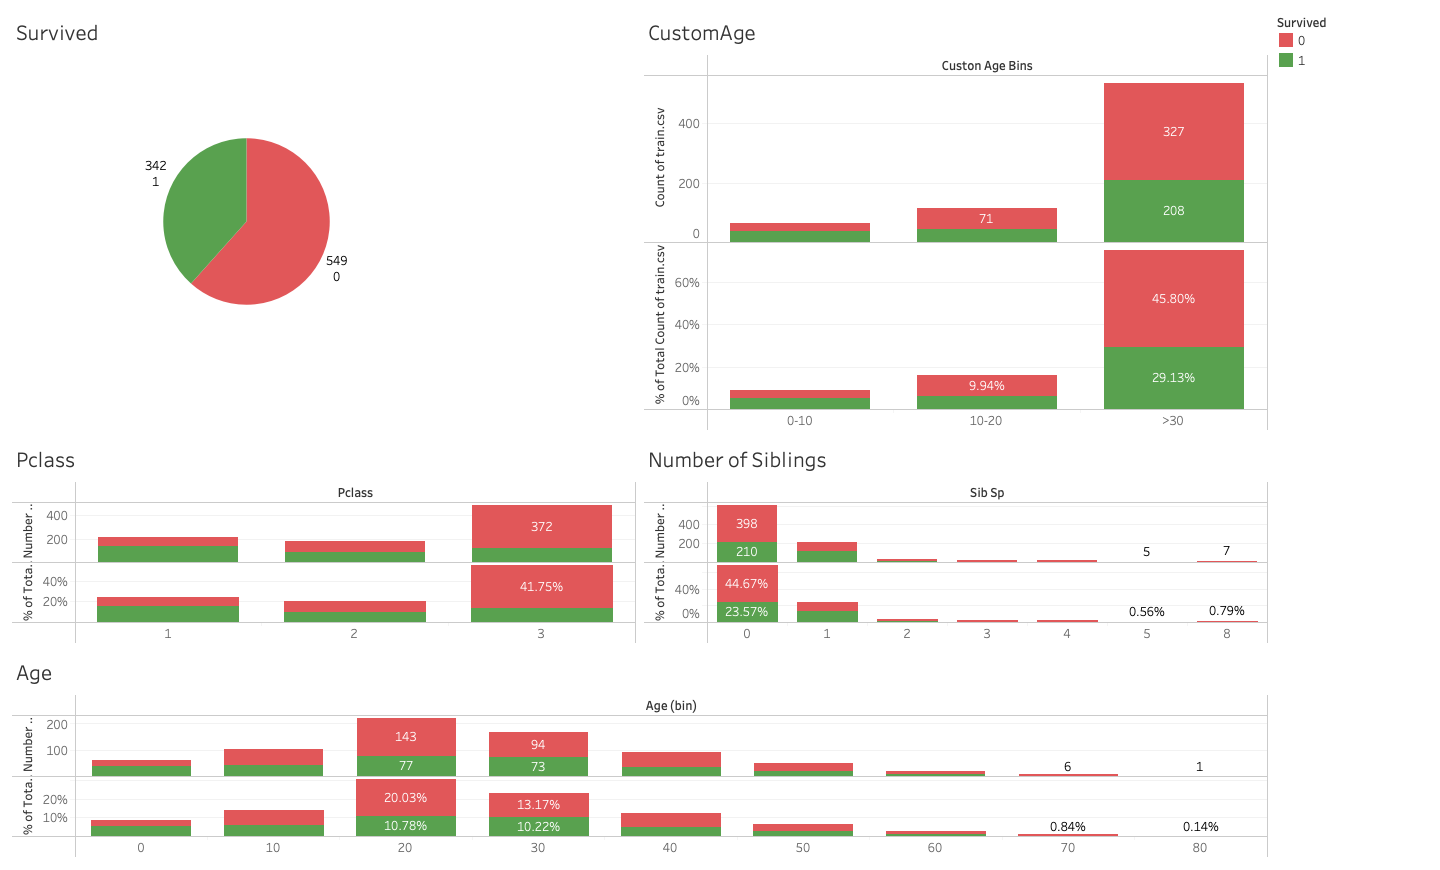

Layout of this report page (visuals, bound fields, positions):
{"tool":"tableau","page":{"name":"Dashboard 1","canvas":[1000,1000],"units":"permille","ordinal":0},"visuals":[{"type":"worksheet","box":[0,0,1000,1000]},{"type":"worksheet","param":"horz","box":[6.5,9.9,987,980.2]},{"type":"worksheet","box":[6.5,9.9,856.8,980.2]},{"type":"worksheet","title":"Survived","mark":"Pie","box":[6.5,9.9,428.4,490.1]},{"type":"worksheet","title":"CustomAge","mark":"Automatic","rows":["train.csv_BBE6D273E4FC451AA31D1AE2D0394274","train.csv_BBE6D273E4FC451AA31D1AE2D0394274"],"cols":["Calculation_3891884171586437123"],"box":[434.9,9.9,428.4,490.1]},{"type":"worksheet","param":"vert","box":[863.3,9.9,130.2,980.2]},{"type":"worksheet","title":"Age","mark":"Automatic","rows":["train.csv_BBE6D273E4FC451AA31D1AE2D0394274","train.csv_BBE6D273E4FC451AA31D1AE2D0394274"],"cols":["Age (bin)"],"param":"[federated.0ymic7e1ymud481h4ejtp0hmhixp].[none:Survived:ok]","box":[863.3,9.9,130.2,81.7]},{"type":"worksheet","title":"Pclass","mark":"Automatic","rows":["train.csv_BBE6D273E4FC451AA31D1AE2D0394274","train.csv_BBE6D273E4FC451AA31D1AE2D0394274"],"cols":["Pclass"],"box":[6.5,500,428.4,245.1]},{"type":"worksheet","title":"#siblings","mark":"Automatic","rows":["train.csv_BBE6D273E4FC451AA31D1AE2D0394274","train.csv_BBE6D273E4FC451AA31D1AE2D0394274"],"cols":["SibSp"],"box":[434.9,500,428.4,245.1]},{"type":"worksheet","title":"Age","mark":"Automatic","rows":["train.csv_BBE6D273E4FC451AA31D1AE2D0394274","train.csv_BBE6D273E4FC451AA31D1AE2D0394274"],"cols":["Age (bin)"],"box":[6.5,745.1,856.8,245.1]}]}

Visuals, with their boxes on the dashboard's canvas, which has no fixed pixel size, in thousandths of its width and height (x1, y1, x2, y2). These are canvas units, not pixel positions in the 1440x870 screenshot, which may show the page scaled, cropped or inside an application window:
worksheet: bbox=(0, 0, 1000, 1000)
worksheet: bbox=(6, 10, 994, 990)
worksheet: bbox=(6, 10, 863, 990)
"Survived" worksheet (Pie marks): bbox=(6, 10, 435, 500)
"CustomAge" worksheet: bbox=(435, 10, 863, 500)
worksheet: bbox=(863, 10, 994, 990)
"Age" worksheet: bbox=(863, 10, 994, 92)
"Pclass" worksheet: bbox=(6, 500, 435, 745)
"#siblings" worksheet: bbox=(435, 500, 863, 745)
"Age" worksheet: bbox=(6, 745, 863, 990)
